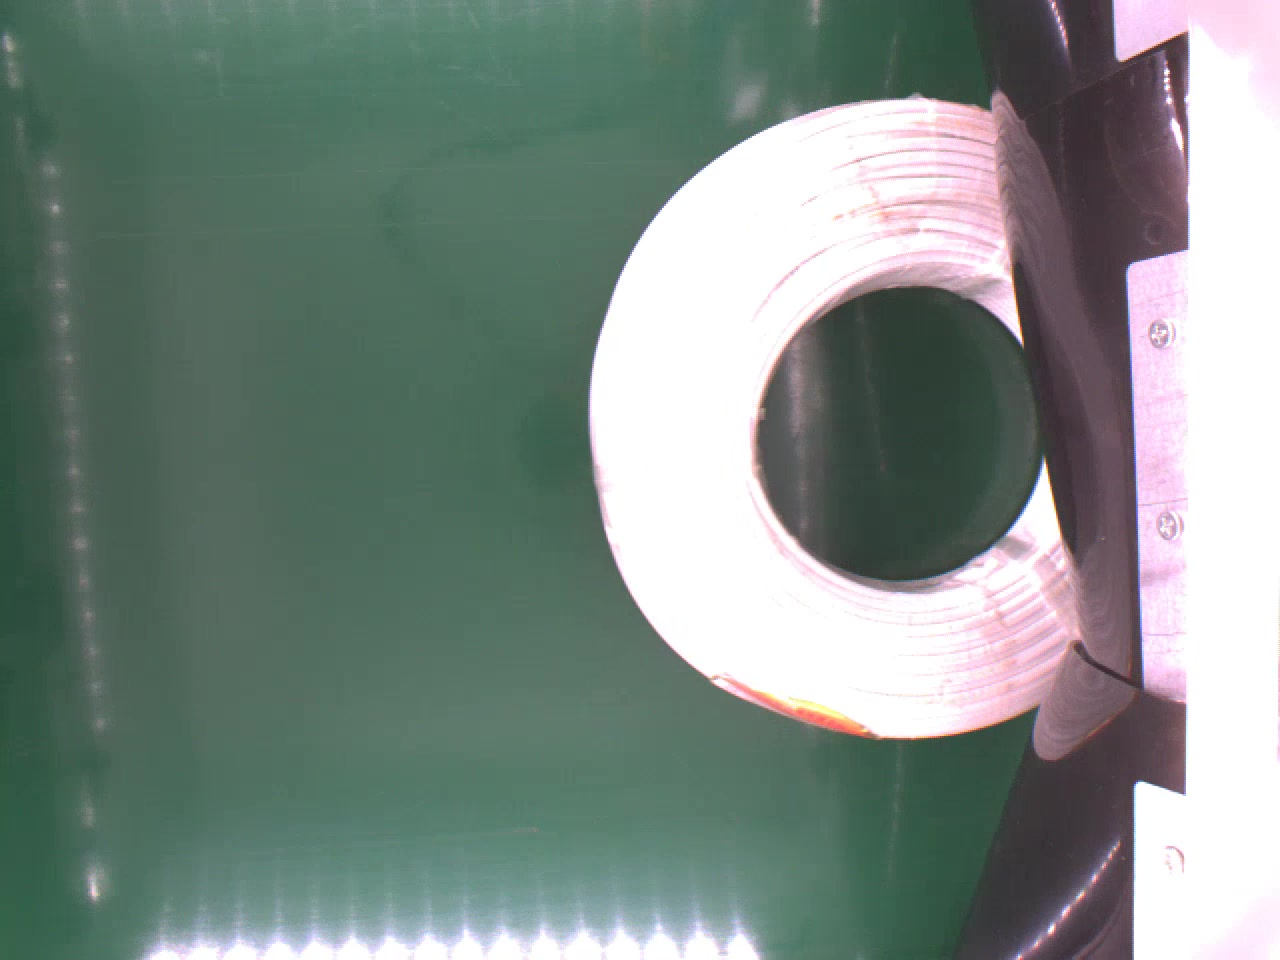white: (589, 91, 1075, 738)
